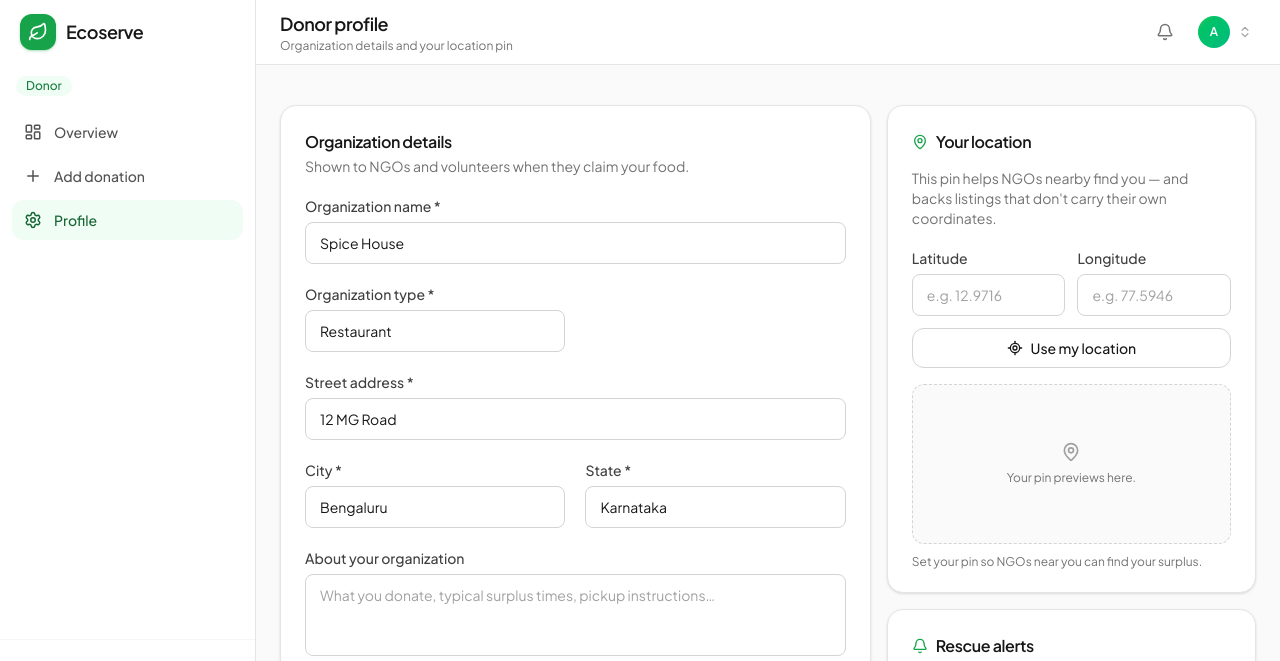
Scenario: DonorProfilePage › prefills the form from the profile and requires both coordinates together
Expected: the field labelled "Organization name *" holds "Spice House", 305,222 -> 846,264
// Only one half of the pin — must be rejected.
Type "12.9716" into the number field labelled "Latitude" at (989, 295), box 912,274 -> 1065,316
(page scrolled)
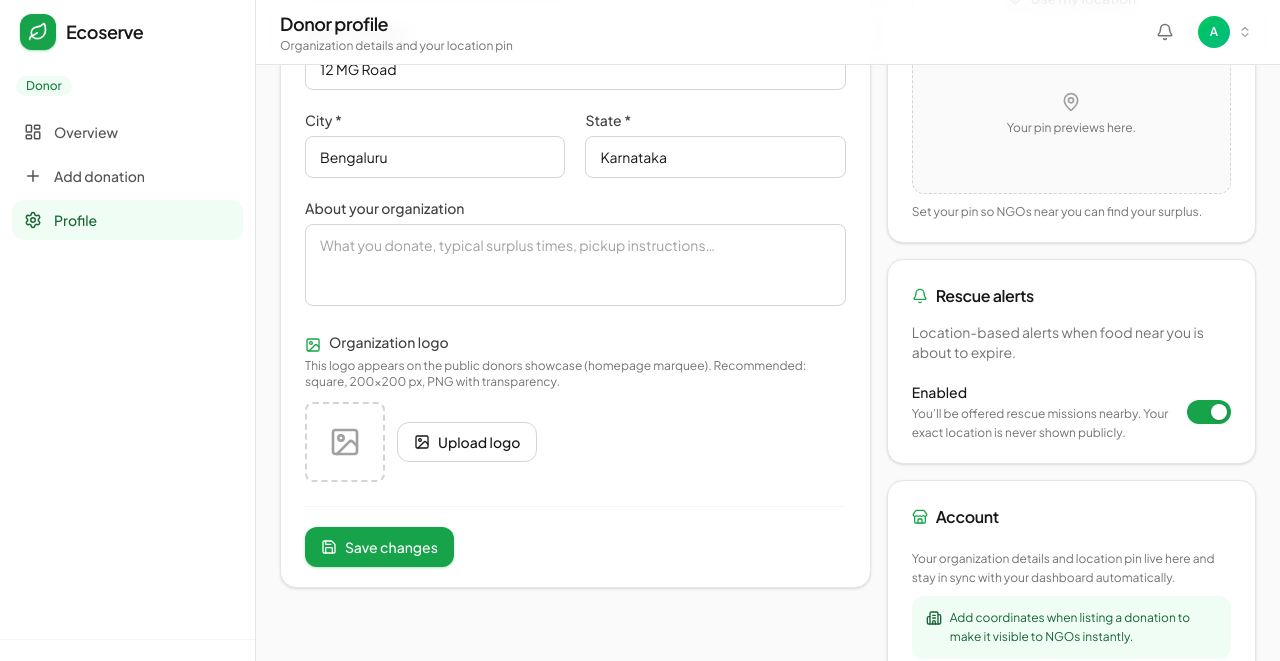
Click the button "Save changes" at (379, 547), box 305,527 -> 454,567
(page scrolled)
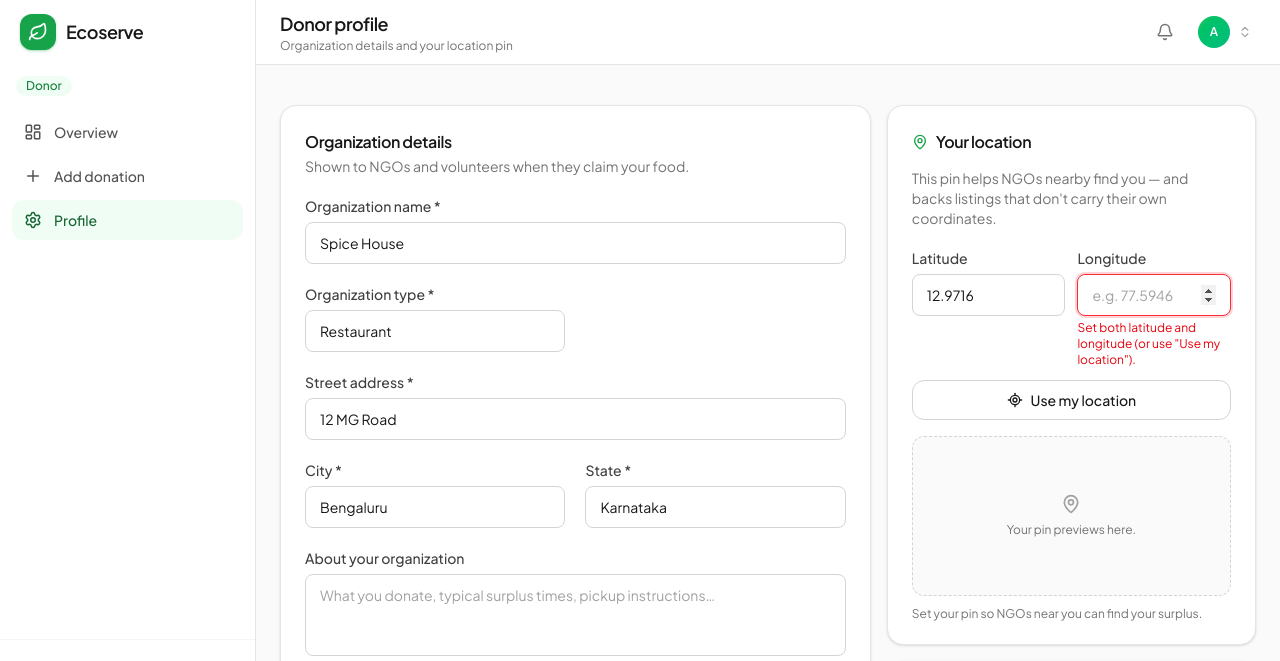
Expected: the text "Set both latitude and longitude (or use \"Use my location\")." is shown, 1077,320 -> 1231,368
